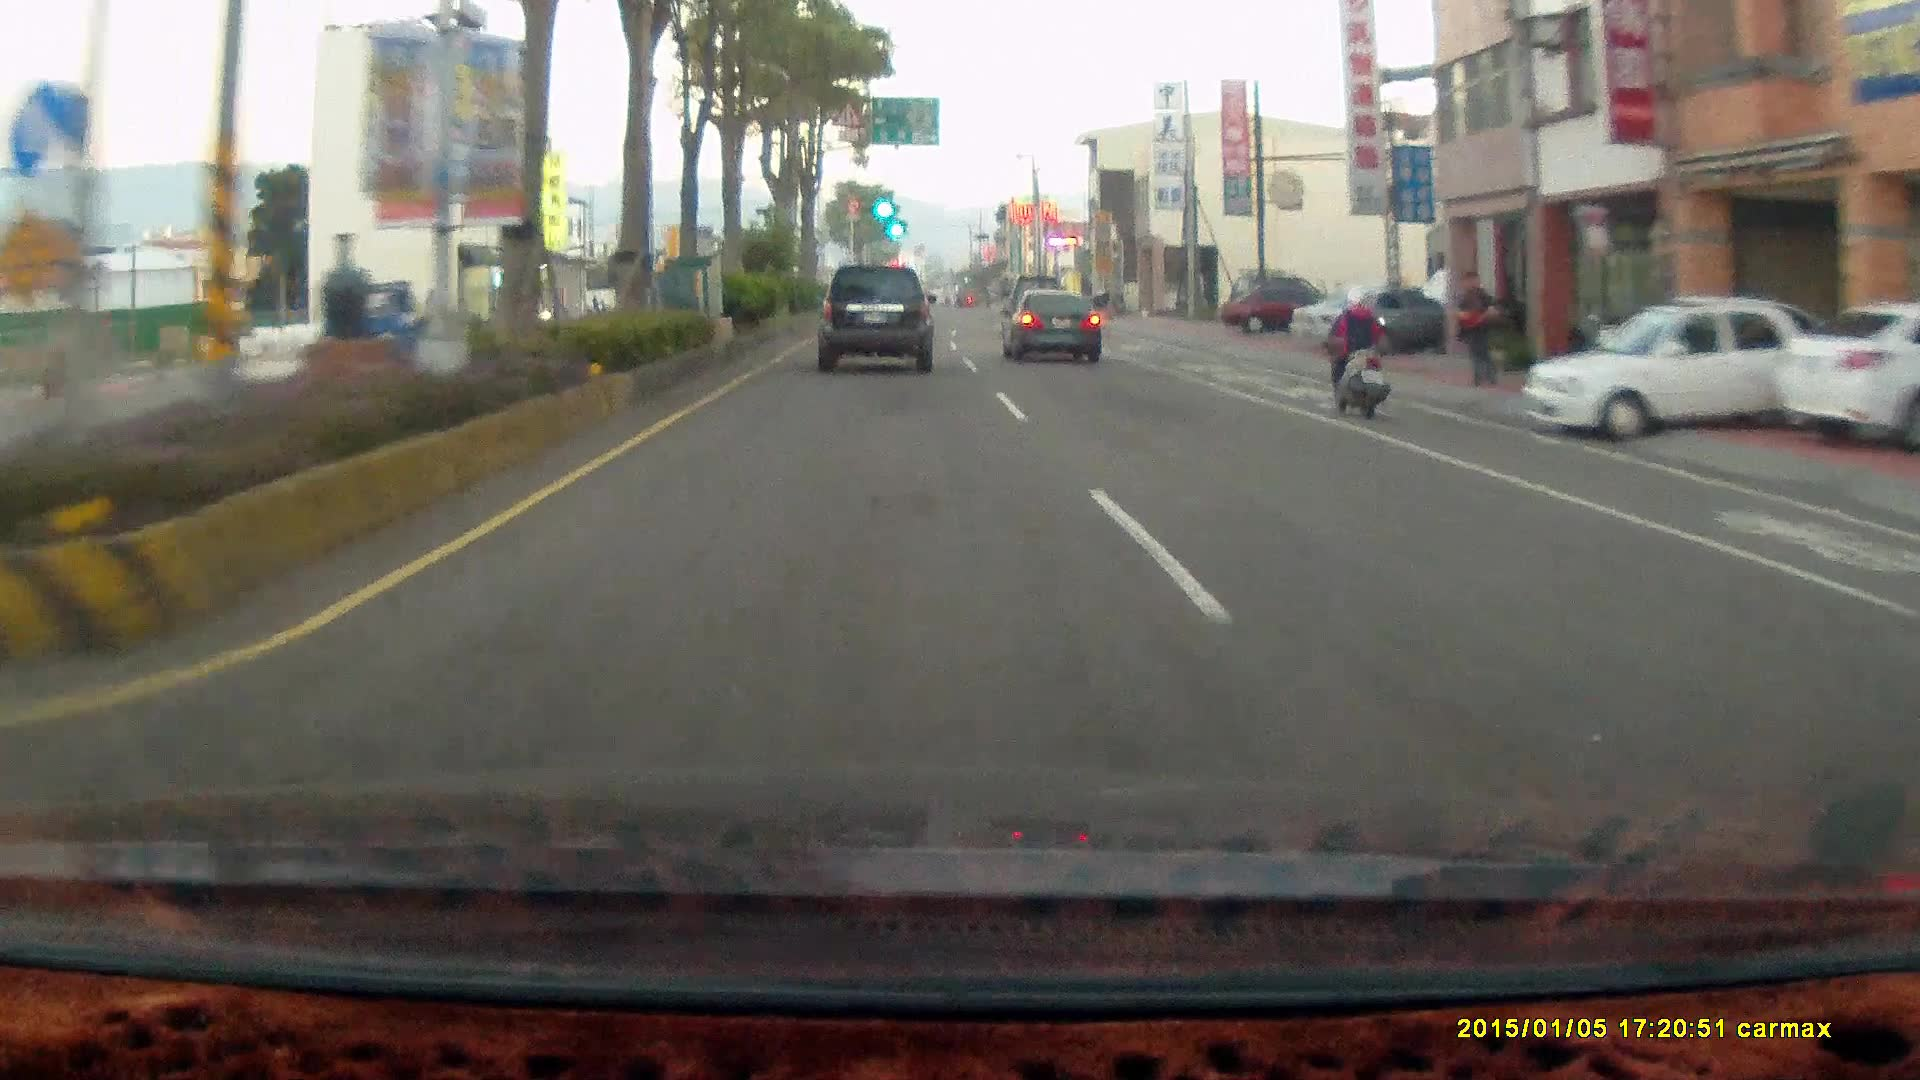pedestrian: (1448, 269, 1503, 389)
rider: (1311, 278, 1405, 431), (1322, 289, 1390, 421)
vehicle: (1523, 299, 1834, 456), (1520, 302, 1826, 444), (1773, 301, 1920, 451), (1774, 304, 1920, 453), (810, 264, 941, 384), (815, 266, 937, 375), (1287, 293, 1460, 367), (1289, 289, 1467, 357), (998, 288, 1101, 364), (1001, 295, 1104, 368), (1220, 286, 1344, 333)
